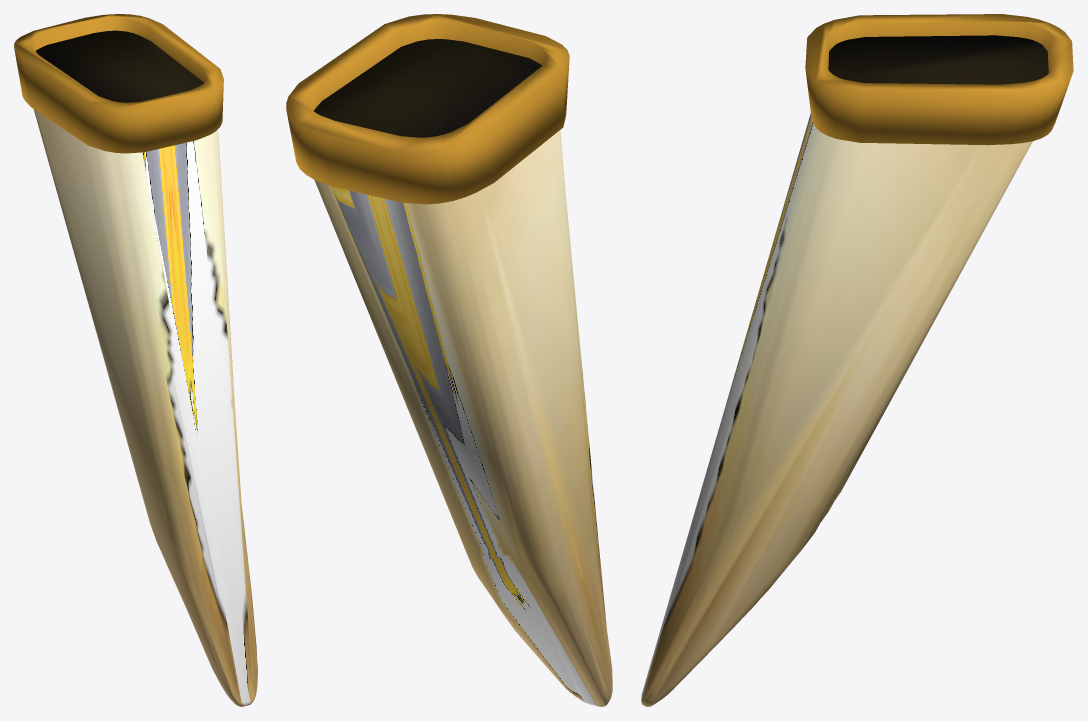
File: horn1.fbx
The picture shows the model from 3 angles, left to right: view 1: azimuth 30°, elevation 25°; view 2: azimuth 150°, elevation 25°; view 3: azimuth 270°, elevation 25°; orthographic projection. The views are drawn at different scales.
Visible parts, largest first — view 1: Cube.001; view 2: Cube.001; view 3: Cube.001.
Part boxes in pixels (left/top/right/bottom): Cube.001: left=14, top=14, right=257, bottom=706; Cube.001: left=286, top=14, right=612, bottom=706; Cube.001: left=641, top=14, right=1073, bottom=706.
Bounding box in the file's own units: 196 × 743 × 447.
